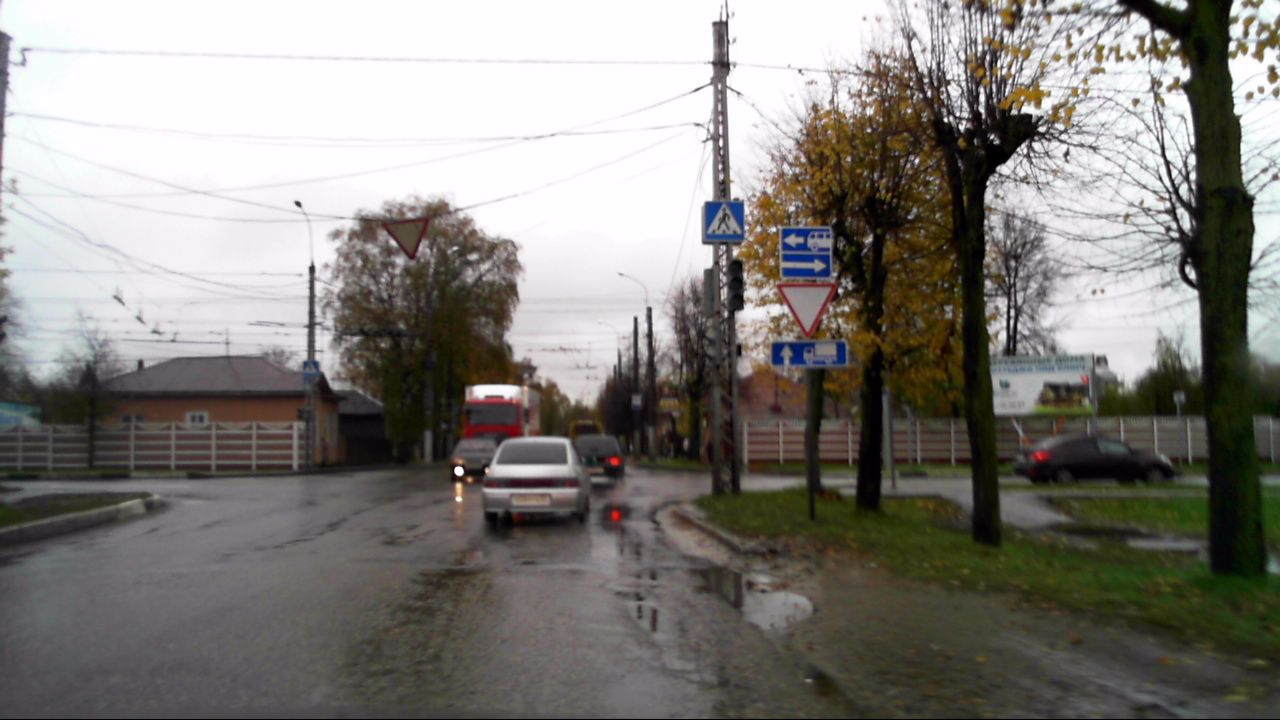One-Way Traffic: (780, 253, 831, 278)
